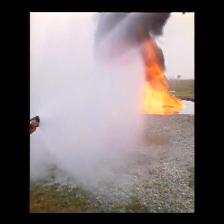fire: (149, 77, 173, 110)
smoke: (104, 14, 152, 38)
